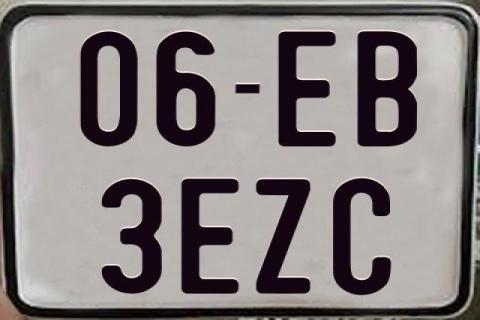0: (100, 177, 167, 291), (78, 31, 140, 151), (156, 30, 219, 146)
B: (356, 30, 416, 148)
C: (330, 177, 392, 297)
E: (178, 178, 242, 298), (278, 31, 338, 149)
Z: (253, 177, 314, 293)
